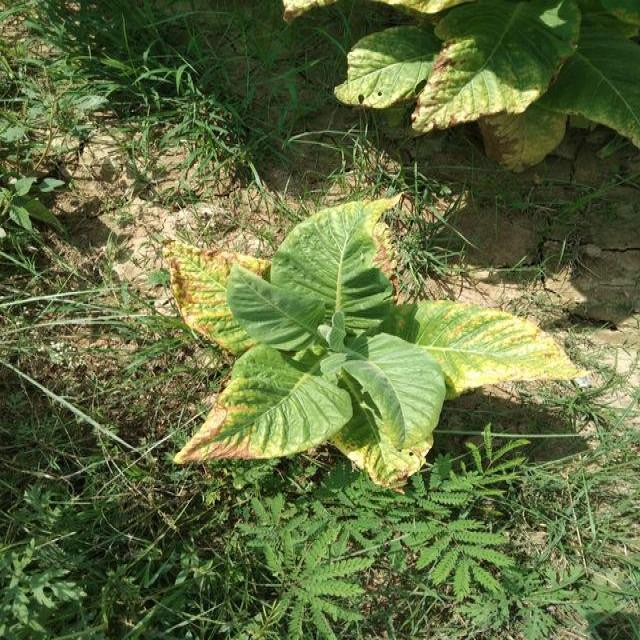crop: (189, 203, 562, 464), (345, 0, 640, 146)
